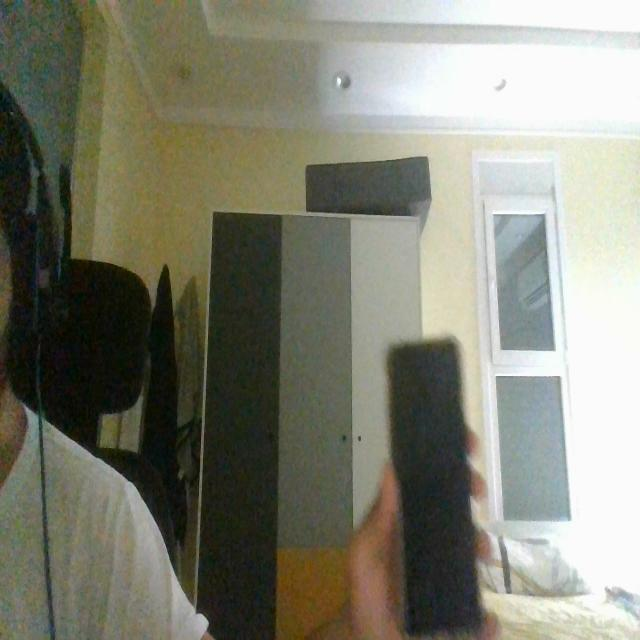Phone: (380, 329, 488, 640)
